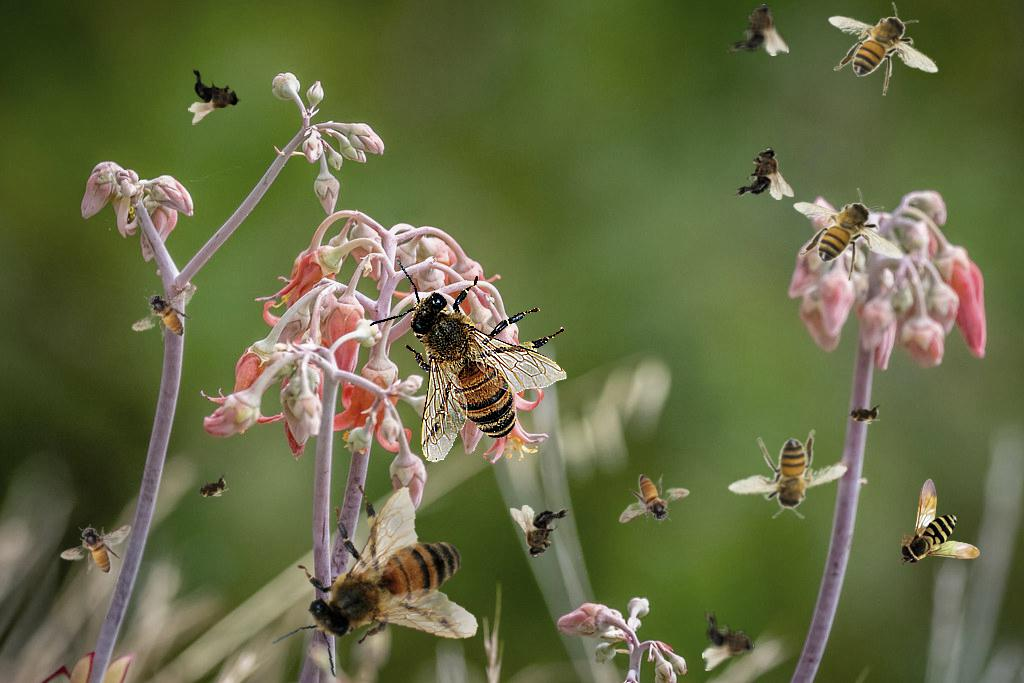Bee: (268, 474, 493, 683), (368, 259, 567, 463), (713, 404, 858, 546), (828, 2, 939, 96), (793, 188, 904, 282), (898, 478, 980, 566), (125, 282, 205, 347), (619, 474, 690, 524), (60, 524, 131, 574), (702, 609, 755, 671), (732, 147, 794, 200), (188, 63, 241, 125), (727, 3, 789, 56), (510, 505, 572, 558), (189, 471, 235, 505), (844, 403, 884, 425)
